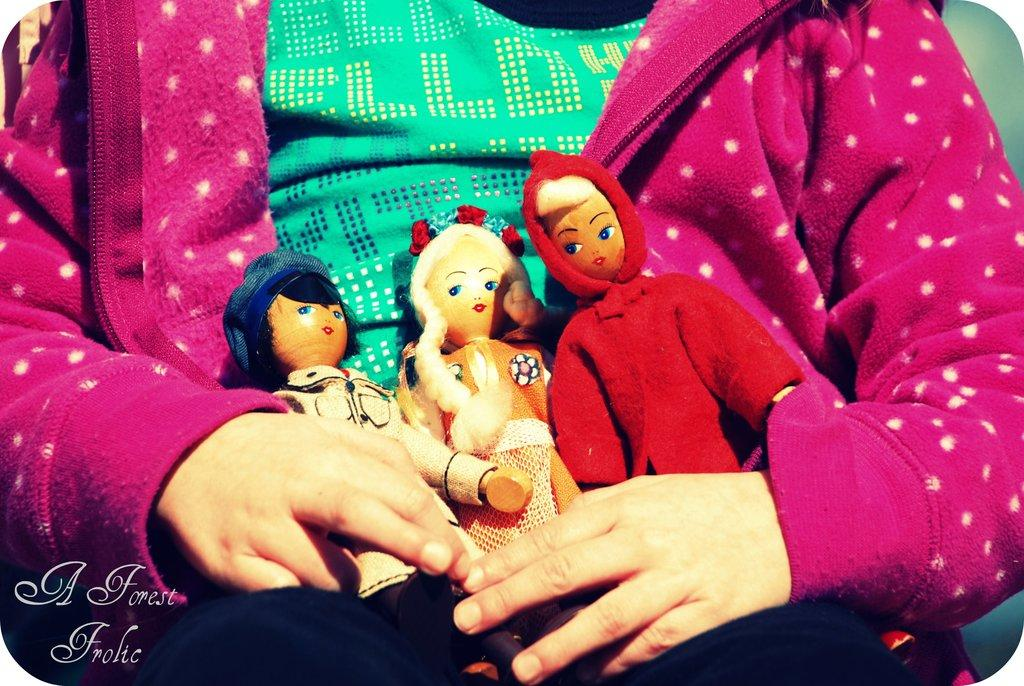Sem Máscara: (540, 195, 622, 274), (423, 241, 506, 318), (274, 290, 346, 340)
